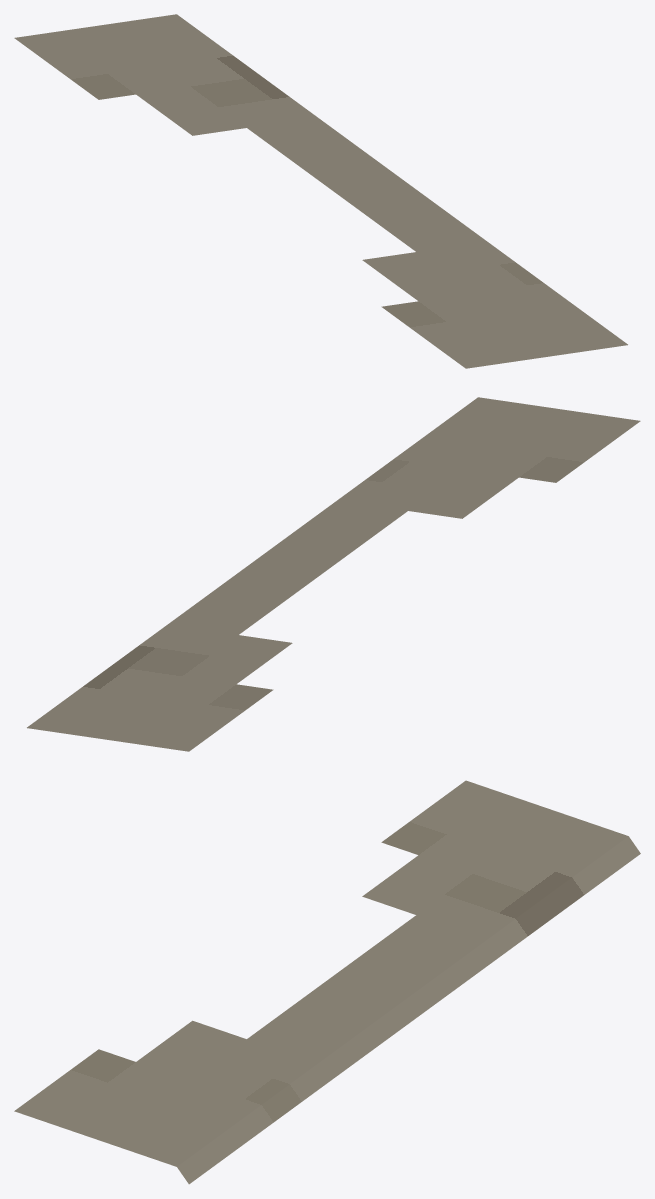
The picture shows the model from 3 angles, top to bottom: view 1: azimuth 30°, elevation 25°; view 2: azimuth 150°, elevation 25°; view 3: azimuth 330°, elevation 25°; orthographic projection.
Bounding box in the file's own units: 0.2236 × 0.0373 × 1.
Materials: 1 (1 with a texture image).
